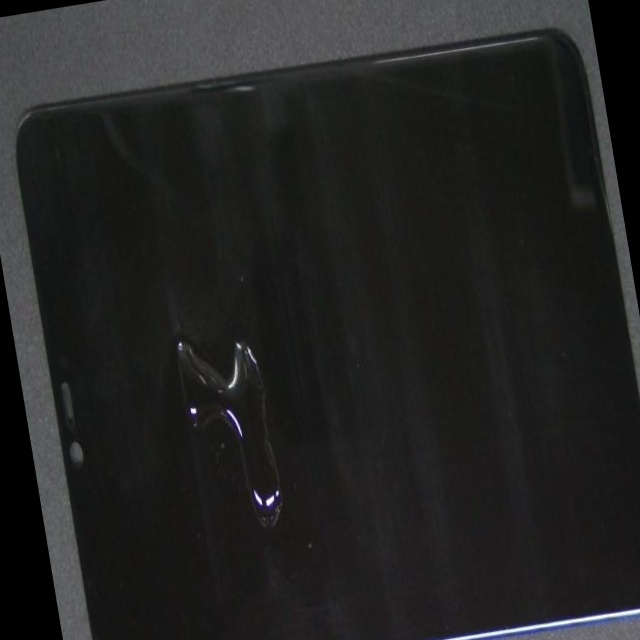oil: (58, 191, 328, 640)
